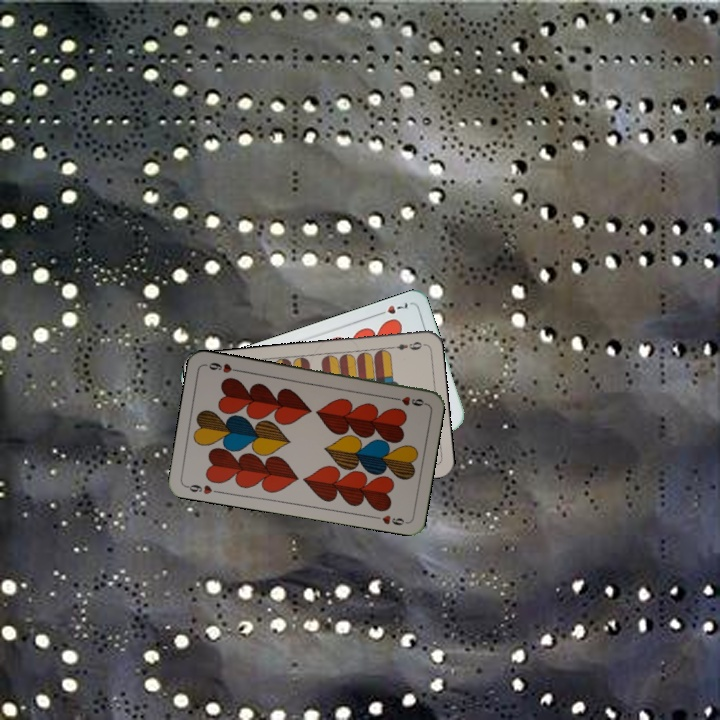E9: (386, 337, 424, 352)
H7: (373, 298, 412, 318)
H9: (388, 392, 428, 409), (182, 480, 214, 497)
